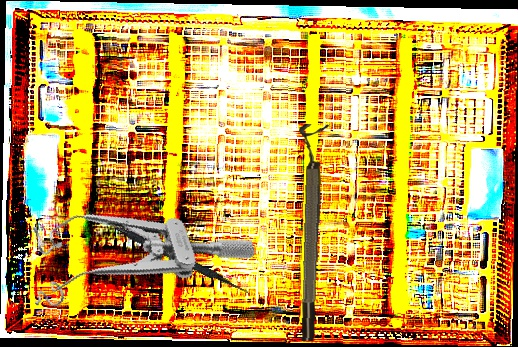Fixation Ring: (288, 123, 330, 342)
Spatula Surgical: (84, 210, 253, 296)
Speculum: (12, 164, 257, 326)
